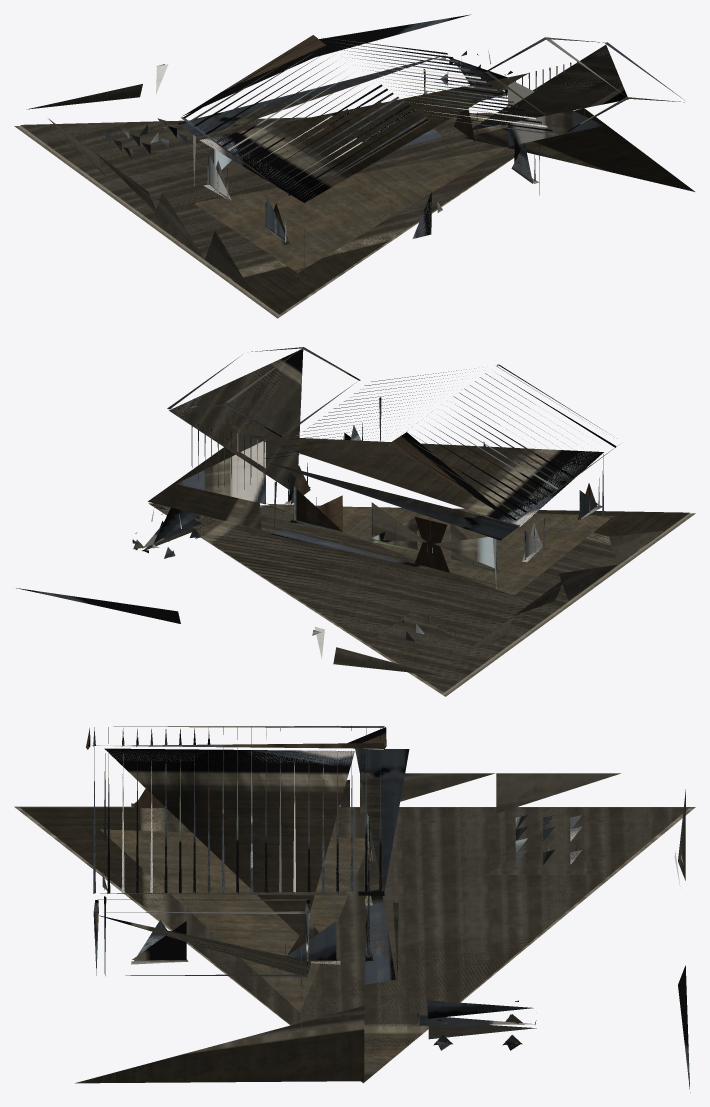
Rendered from rural_house_002.lod2.obj.
3 views of the same model, one above another, from view 1: azimuth 30°, elevation 25°; view 2: azimuth 150°, elevation 25°; view 3: azimuth 270°, elevation 25° (orthographic). The views are drawn at different scales.
Parts seen in each view (by area): view 1: rural_house_002; view 2: rural_house_002; view 3: rural_house_002.
Boxes of the visible parts, bbox=[...] form: rural_house_002: bbox=[14, 14, 694, 318]; rural_house_002: bbox=[16, 347, 695, 696]; rural_house_002: bbox=[14, 725, 695, 1092].
Bounding box in the file's own units: 20 × 5.71 × 20.
Materials: 1 (1 with a texture image).
